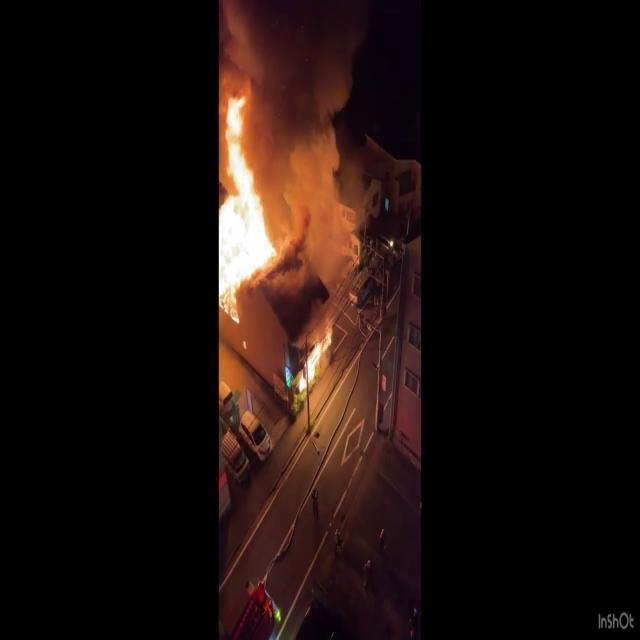Fire: (218, 80, 290, 312), (295, 326, 331, 404)
Smoke: (239, 2, 374, 225)
